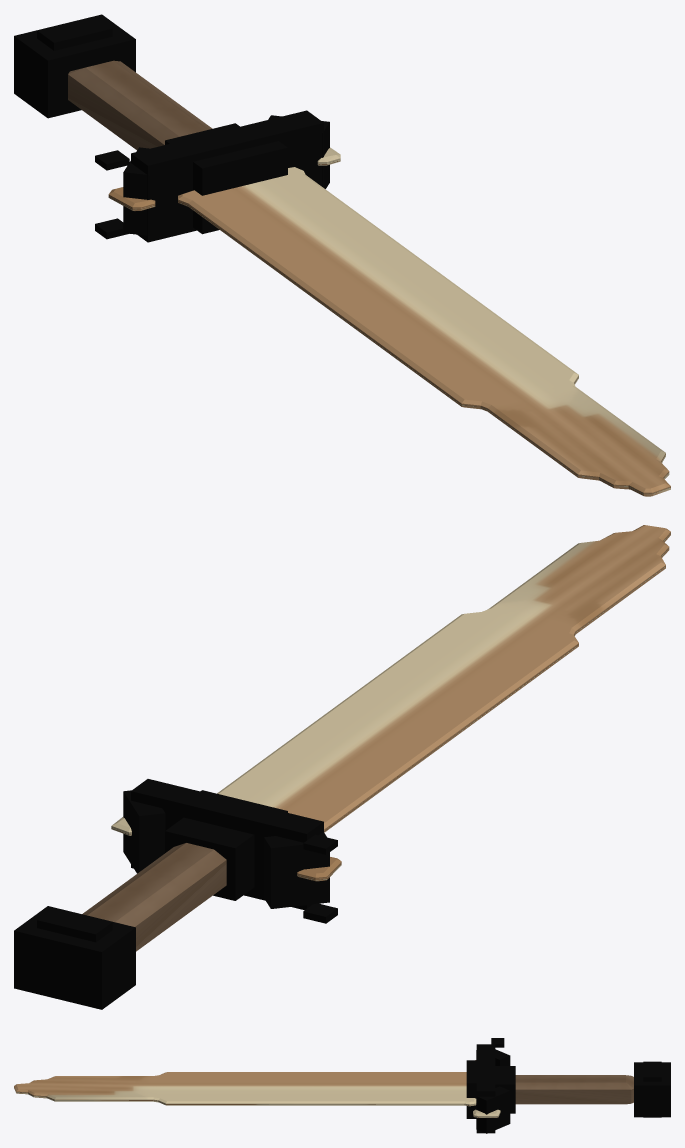
The model's file is ashwood_jian.obj.
3 views of the same model, one above another, from view 1: azimuth 30°, elevation 25°; view 2: azimuth 150°, elevation 25°; view 3: azimuth 270°, elevation 25° (orthographic). The views are drawn at different scales.
Visible parts, largest first — view 1: ashwood_jian; view 2: ashwood_jian; view 3: ashwood_jian.
Boxes of the visible parts, left/top/right/bottom form: ashwood_jian: left=14, top=14, right=670, bottom=496; ashwood_jian: left=14, top=525, right=670, bottom=1009; ashwood_jian: left=14, top=1038, right=670, bottom=1133.
Bounding box in the file's own units: 0.2356 × 0.0781 × 1.11.
